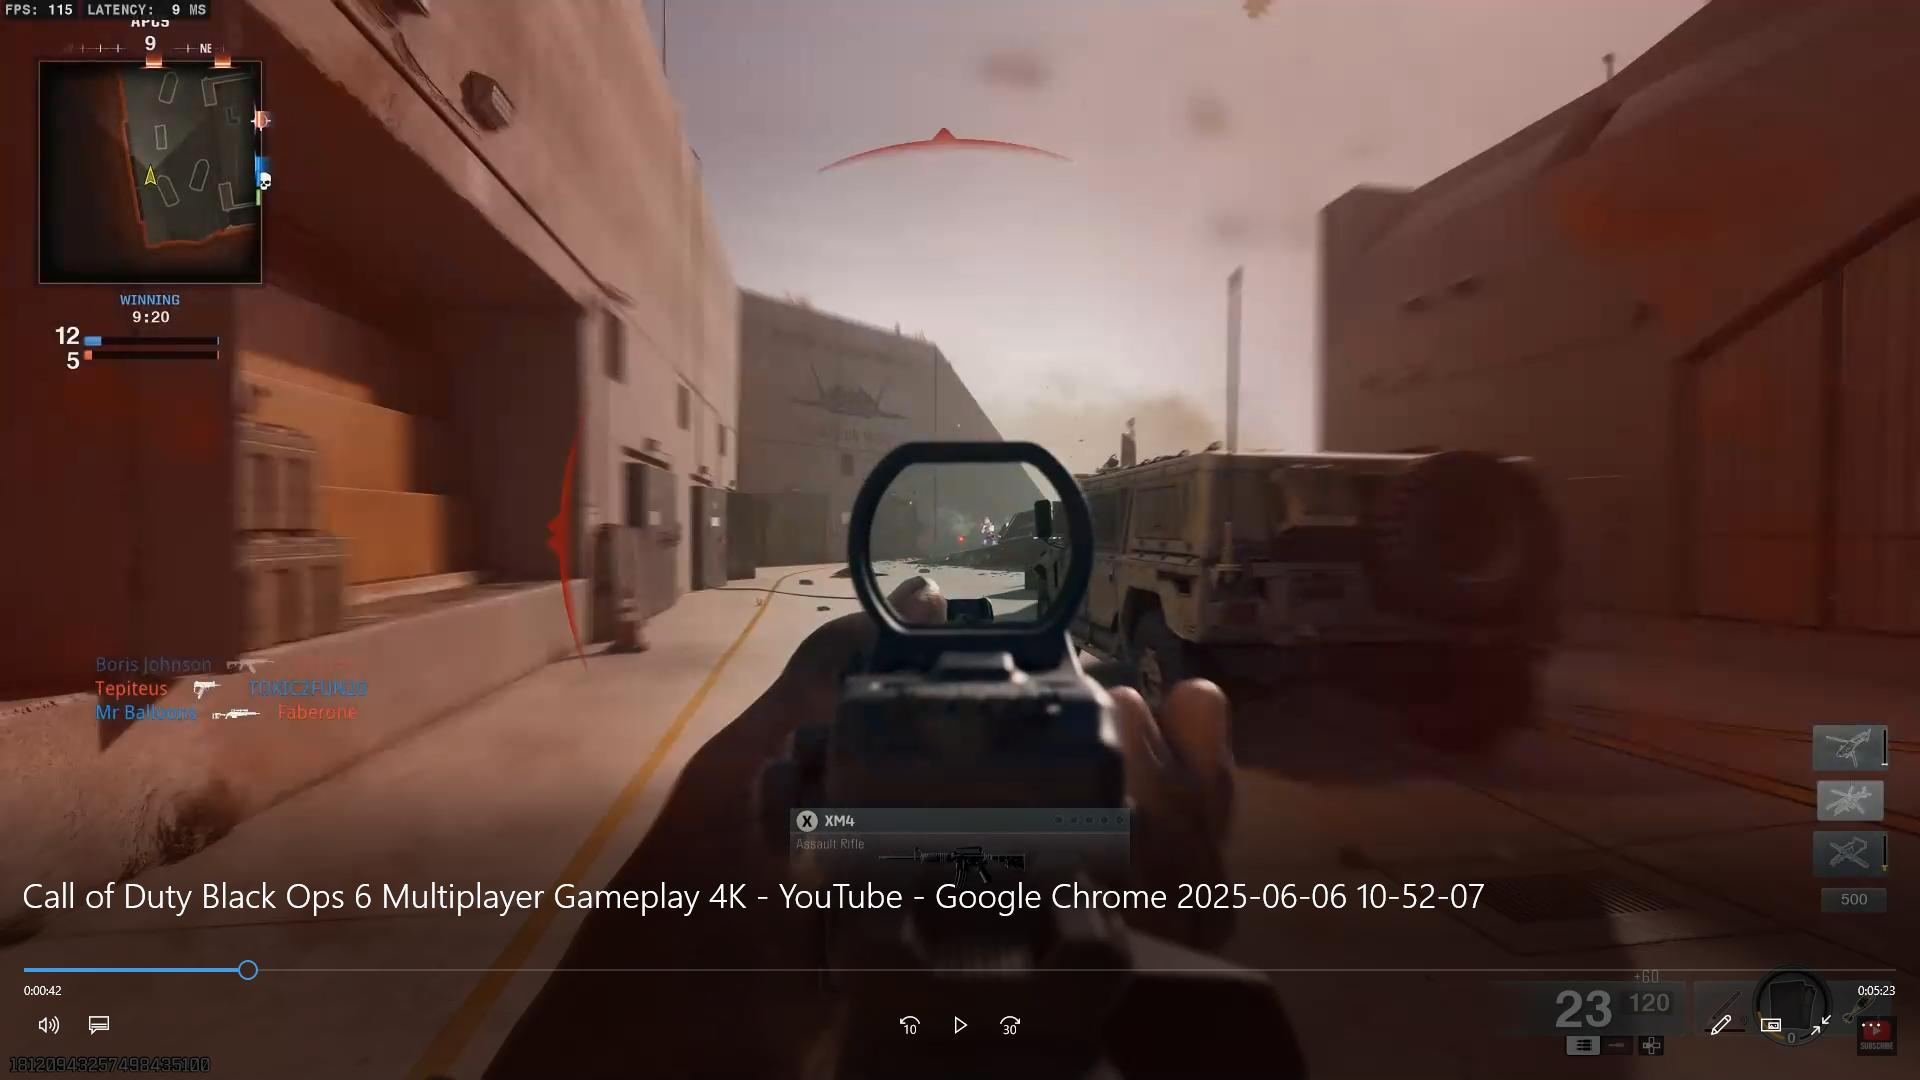Enemy: (972, 502, 1002, 554)
